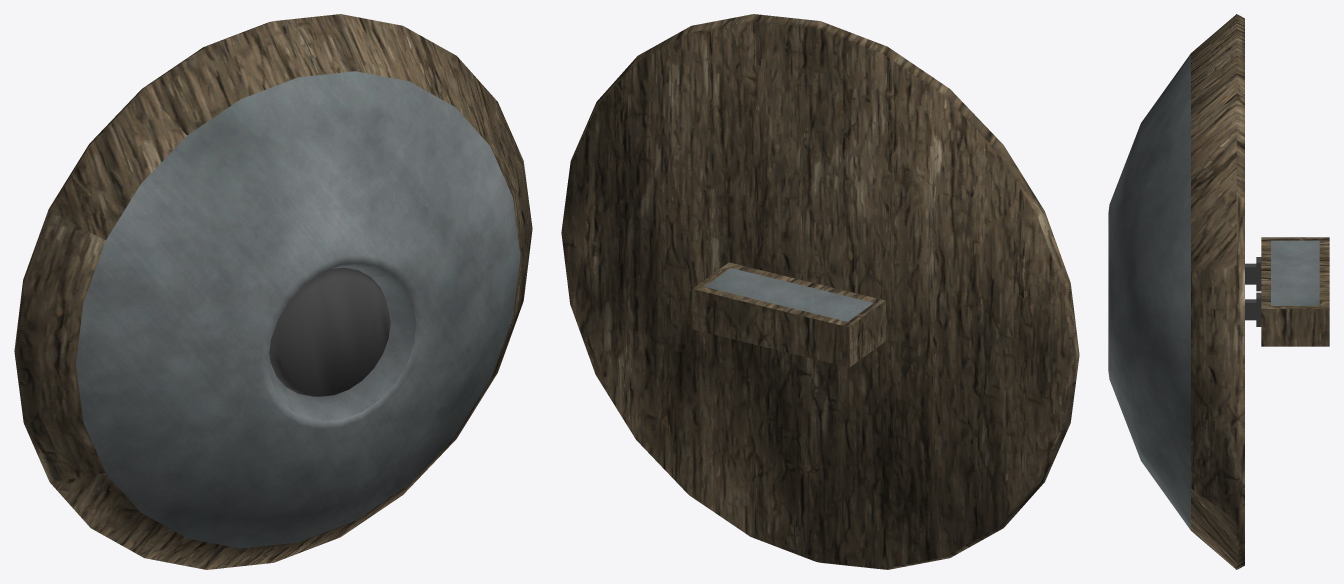
The model's file is Shield.obj.
3 views of the same model, side by side, from view 1: azimuth 30°, elevation 25°; view 2: azimuth 150°, elevation 25°; view 3: azimuth 270°, elevation 25° (orthographic). The views are drawn at different scales.
Size of the model in its own units: 0.9883 by 0.9883 by 0.3915.
